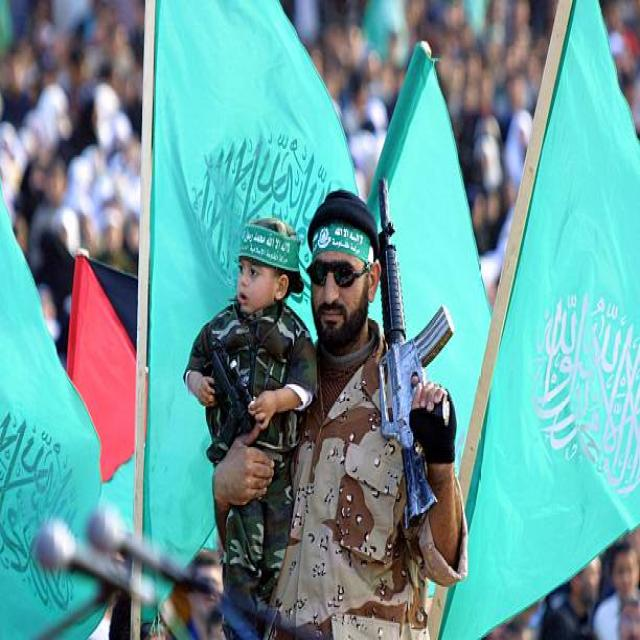terrorist: (271, 179, 466, 638)
